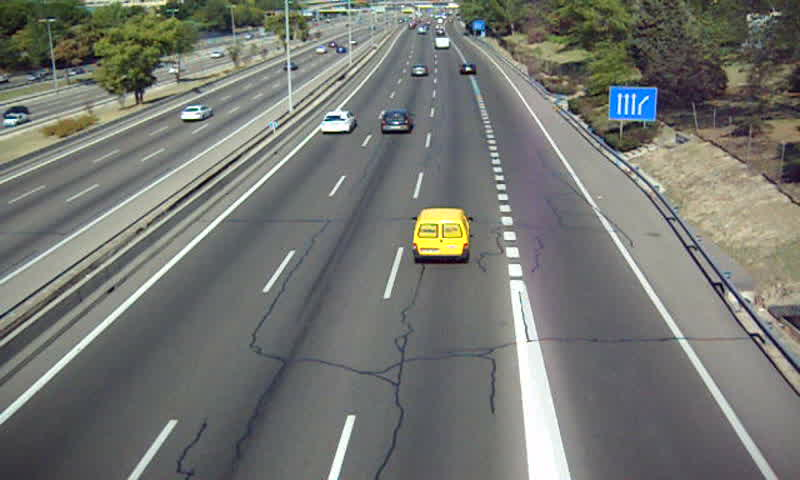car: (319, 110, 357, 136), (379, 110, 414, 135), (410, 64, 429, 79), (459, 62, 478, 76)
van: (412, 208, 471, 263)
